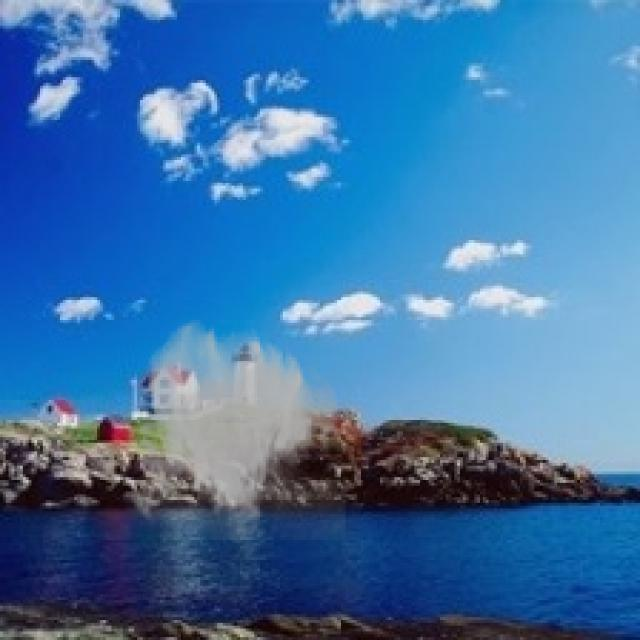Smoke: (123, 317, 346, 540)
